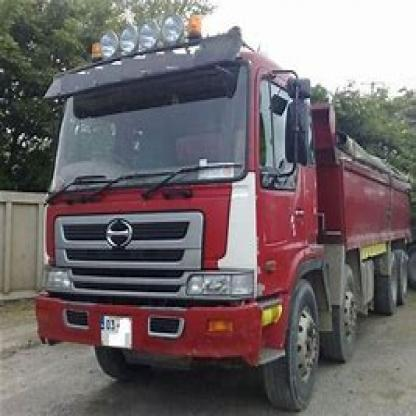dump_truck: (37, 34, 414, 410)
